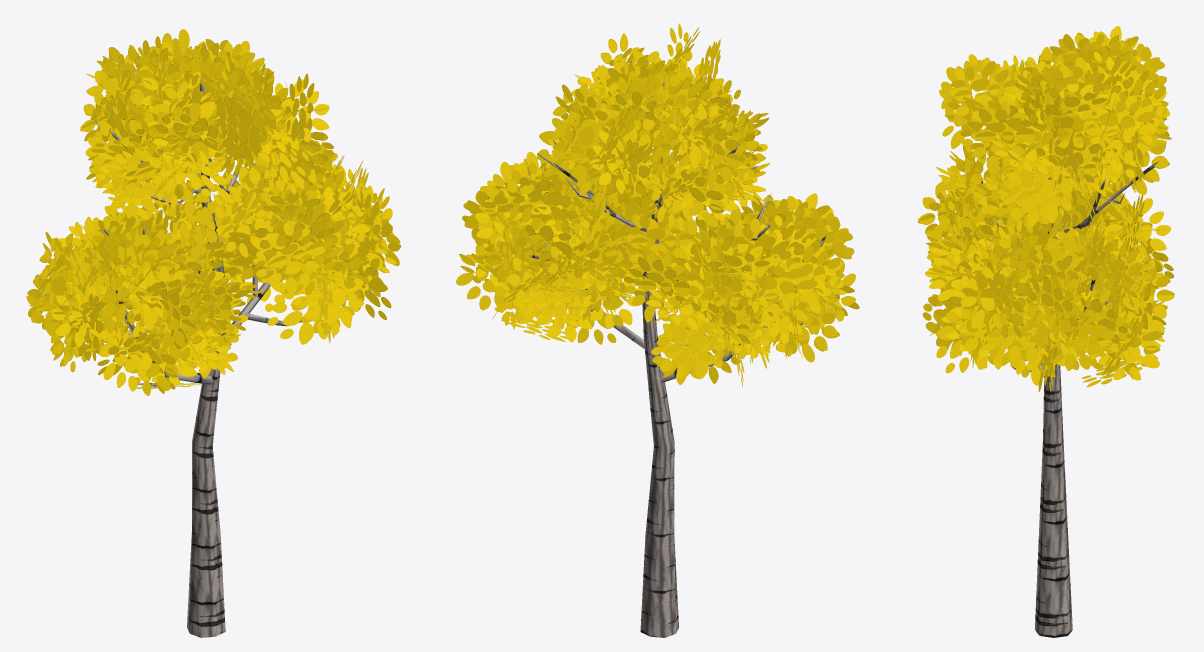
File: BirchTree_4.glb
3 renders of one model, left to right at view 1: azimuth 30°, elevation 25°; view 2: azimuth 150°, elevation 25°; view 3: azimuth 270°, elevation 25°, orthographic.
Bounding box in the file's own units: 2.78 × 4.21 × 1.84.
2 materials, 2 textured.
